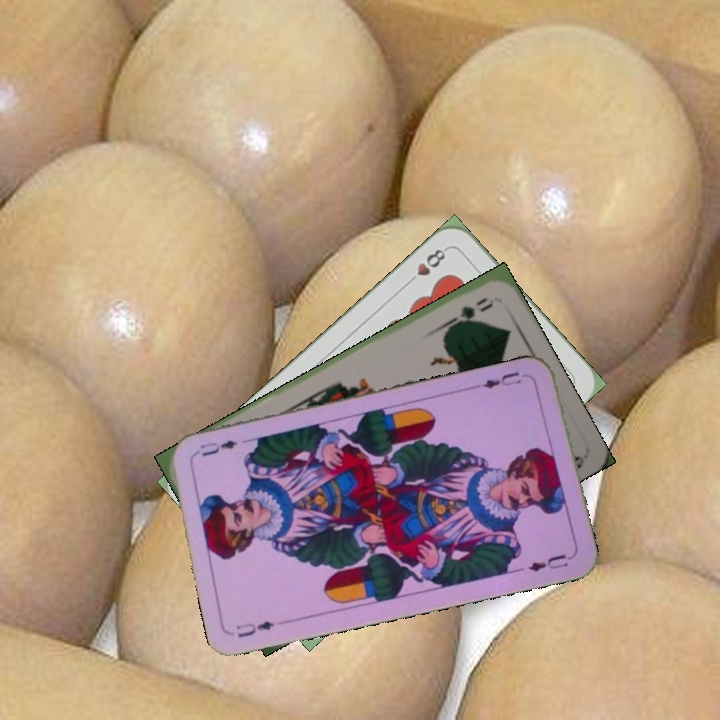EU: (473, 367, 532, 392), (232, 617, 277, 641)
GO: (441, 293, 490, 332)
H8: (402, 243, 451, 288)
